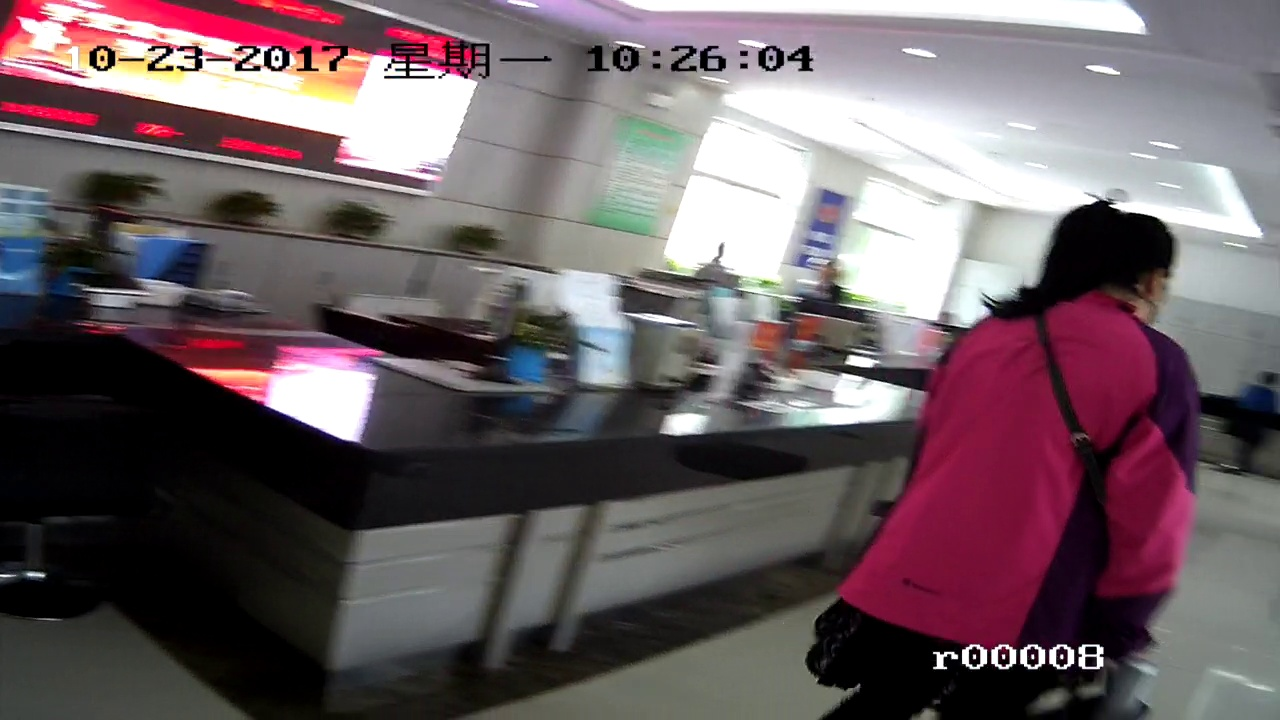billboard: (611, 115, 671, 237)
person: (967, 215, 1191, 659)
pot: (85, 160, 165, 220), (452, 214, 520, 262), (212, 180, 271, 229), (337, 202, 395, 249)
